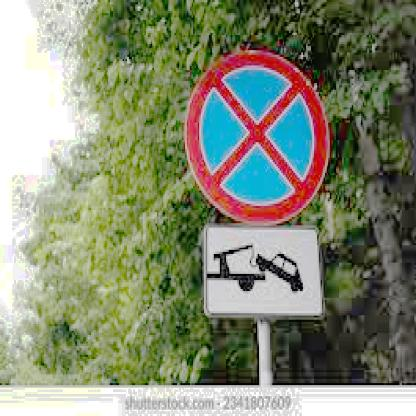No stopping: (181, 52, 326, 217)
